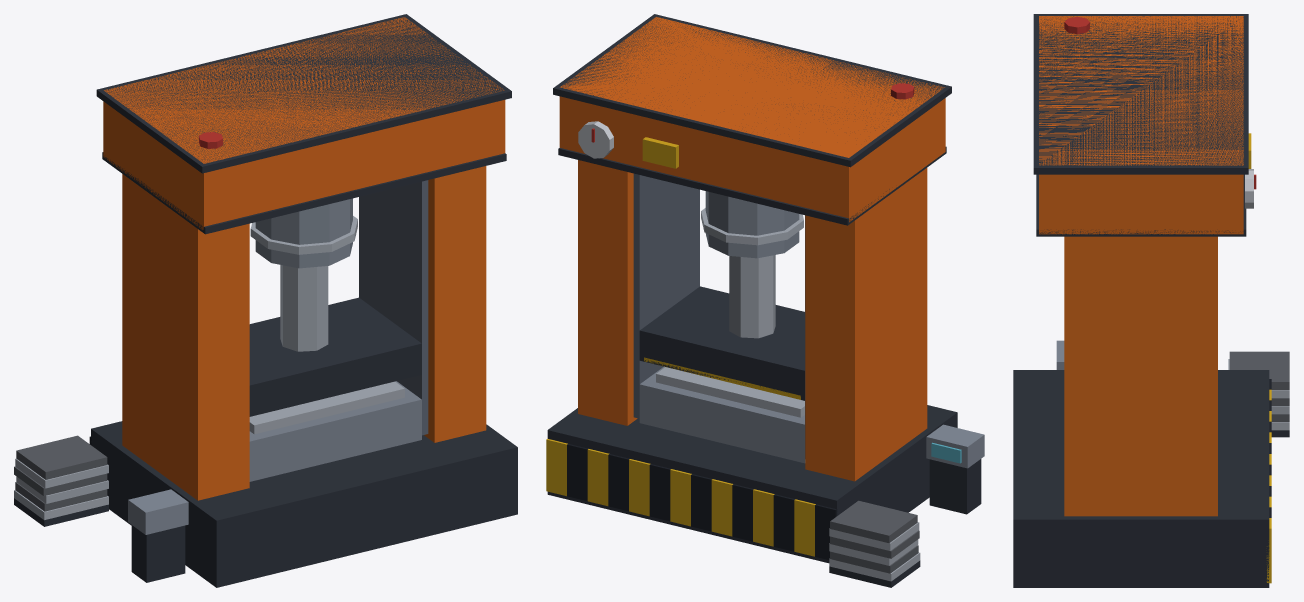
File: Decor_RobotFactory_Press.fbx
The picture shows the model from 3 angles, left to right: view 1: azimuth 30°, elevation 25°; view 2: azimuth 150°, elevation 25°; view 3: azimuth 270°, elevation 25°; orthographic projection. The views are drawn at different scales.
Parts seen in each view (by area): view 1: Press_Body; view 2: Press_Body; view 3: Press_Body.
Part boxes in pixels (box(x1,y1,x2,y2)): Press_Body: box(14, 14, 517, 587); Press_Body: box(546, 14, 984, 587); Press_Body: box(1013, 14, 1289, 587).
Bounding box in the file's own units: 17.1 × 18.5 × 10.8.
